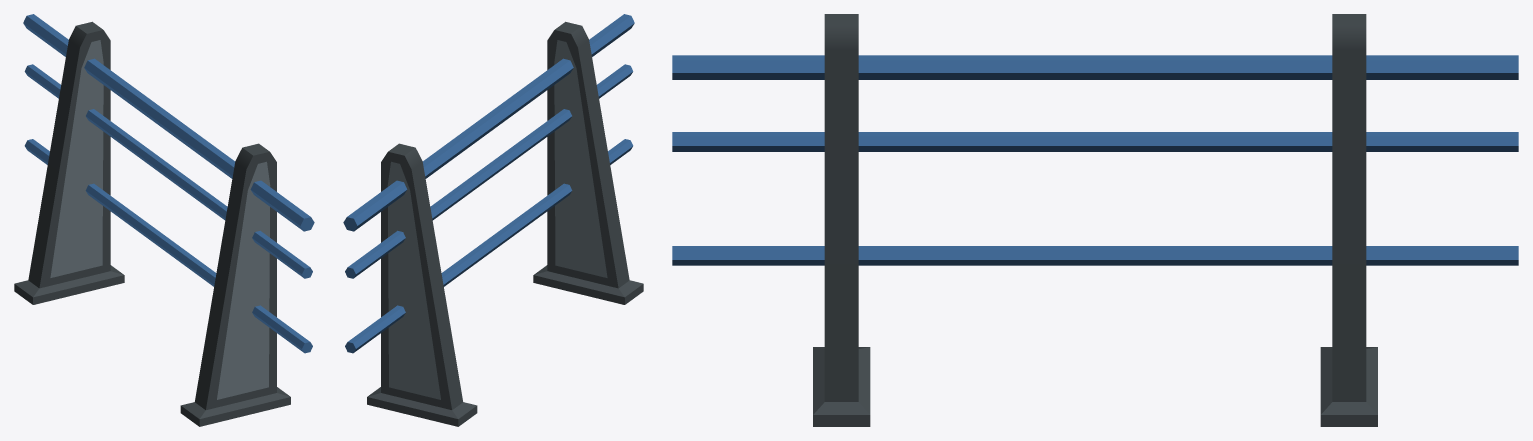
The model's file is space_SM_Bld_Floor_Small_Hand_Rail_01.gltf.
The picture shows the model from 3 angles, left to right: view 1: azimuth 30°, elevation 25°; view 2: azimuth 150°, elevation 25°; view 3: azimuth 270°, elevation 25°; orthographic projection. The views are drawn at different scales.
Parts seen in each view (by area): view 1: SM_Bld_Floor_Small_Hand_Rail_01; view 2: SM_Bld_Floor_Small_Hand_Rail_01; view 3: SM_Bld_Floor_Small_Hand_Rail_01.
Part boxes in pixels (bbox=[...]): SM_Bld_Floor_Small_Hand_Rail_01: bbox=[14, 14, 314, 426]; SM_Bld_Floor_Small_Hand_Rail_01: bbox=[343, 14, 643, 426]; SM_Bld_Floor_Small_Hand_Rail_01: bbox=[672, 14, 1518, 426].
Size of the model in its own units: 0.4755 by 1.26 by 2.5.
Materials: 1 (1 with a texture image).
